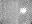person: (21, 9, 27, 14)
